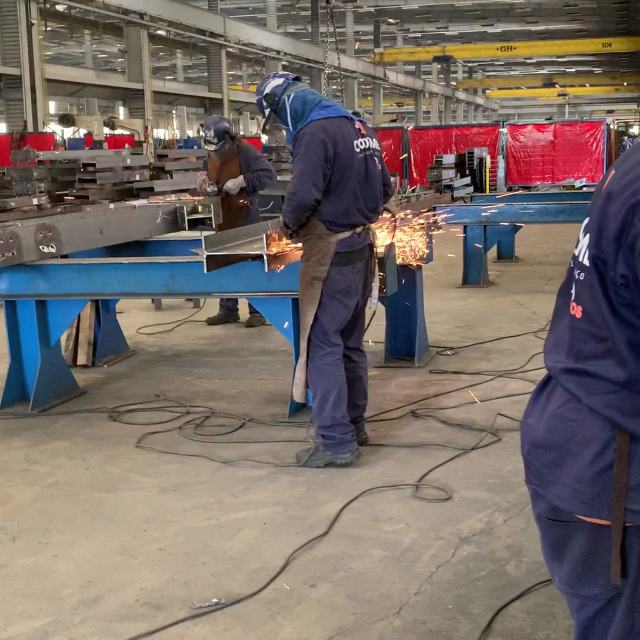face-shield: (262, 104, 297, 151)
glove: (278, 216, 290, 241)
person: (256, 70, 396, 460)
safety-shoe: (299, 437, 361, 470)
